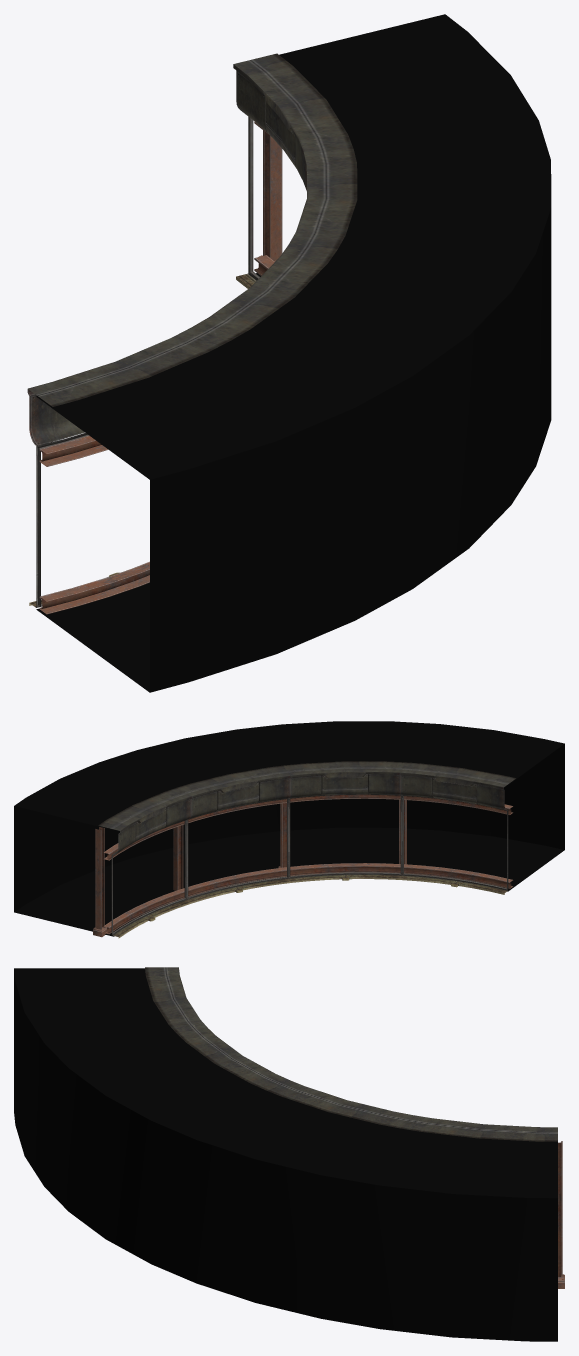
File: pplant_dome_90.dae
The picture shows the model from 3 angles, top to bottom: view 1: azimuth 30°, elevation 25°; view 2: azimuth 150°, elevation 25°; view 3: azimuth 270°, elevation 25°; orthographic projection. The views are drawn at different scales.
Parts seen in each view (by area): view 1: dome; view 2: dome; view 3: dome.
Boxes of the visible parts, x1,y1,x2,y2 form: dome: [27, 14, 551, 692]; dome: [14, 721, 564, 938]; dome: [14, 967, 564, 1341].
Bounding box in the file's own units: 14.27 × 4.22 × 14.46.
